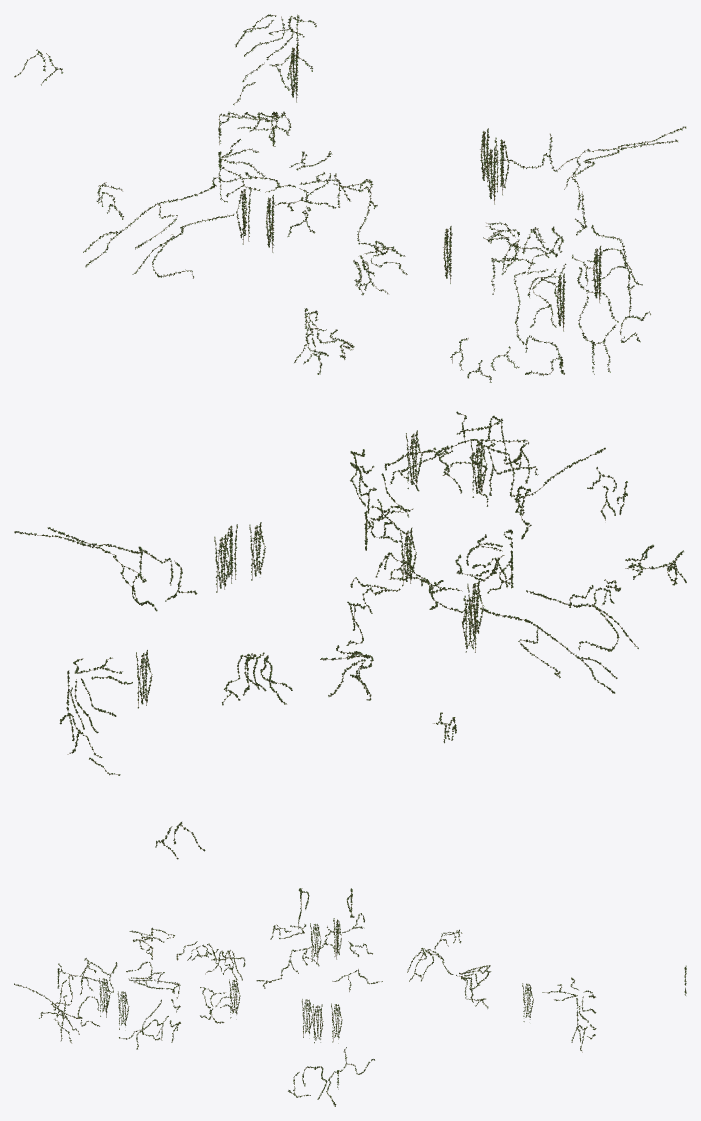
File: Mid Ivy .fbx
The picture shows the model from 3 angles, top to bottom: view 1: azimuth 30°, elevation 25°; view 2: azimuth 150°, elevation 25°; view 3: azimuth 270°, elevation 25°; orthographic projection. The views are drawn at different scales.
Visible parts, largest first — view 1: Trepadeira Leste, Trepadeira Meio, Trepadeira Oeste; view 2: Trepadeira Leste, Trepadeira Meio, Trepadeira Oeste; view 3: Trepadeira Leste, Trepadeira Meio, Trepadeira Oeste.
Boxes of the visible parts, x1,y1,x2,y2 form: Trepadeira Leste: [294, 222, 650, 382]; Trepadeira Meio: [83, 126, 686, 278]; Trepadeira Oeste: [14, 14, 316, 219]; Trepadeira Leste: [350, 411, 686, 607]; Trepadeira Meio: [14, 522, 638, 693]; Trepadeira Oeste: [59, 645, 456, 859]; Trepadeira Leste: [14, 927, 245, 1049]; Trepadeira Meio: [256, 888, 382, 1106]; Trepadeira Oeste: [407, 929, 686, 1052].
Size of the model in its own units: 6404 by 1046 by 8769.
